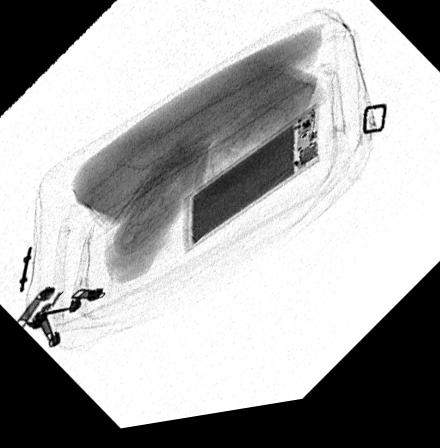Powerbank: (184, 114, 321, 257)
